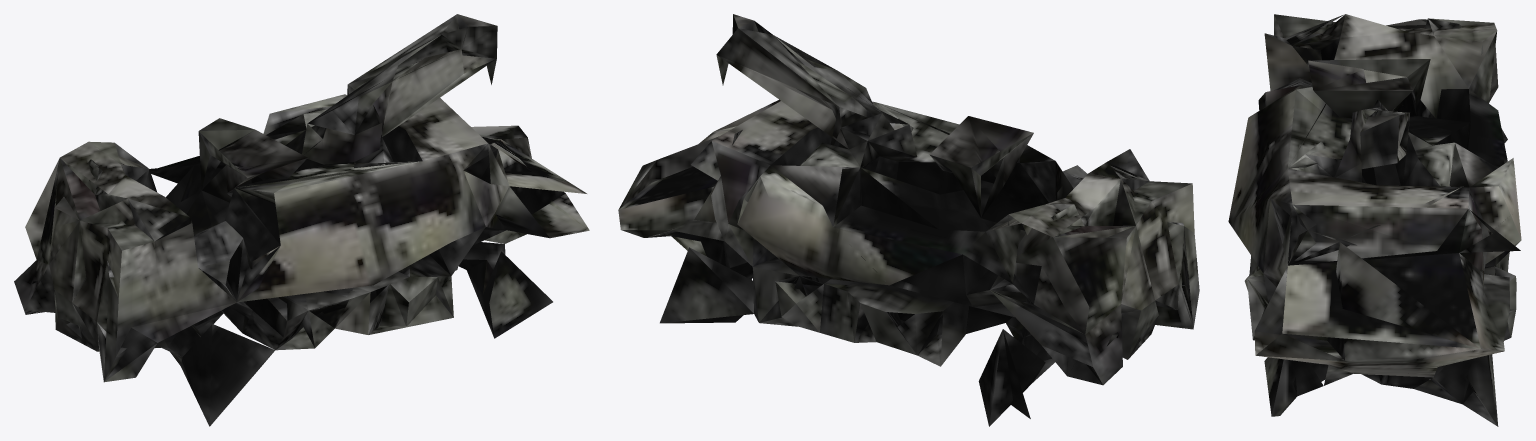
File: factory_1553196644_lod0.glb
3 renders of one model, left to right at view 1: azimuth 30°, elevation 25°; view 2: azimuth 150°, elevation 25°; view 3: azimuth 270°, elevation 25°, orthographic. The views are drawn at different scales.
Size of the model in its own units: 15.98 by 9.25 by 7.51.
1 material, 1 textured.
